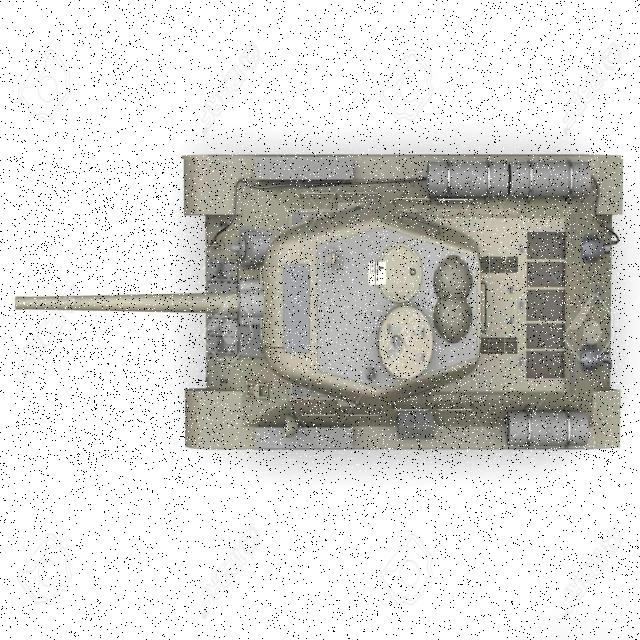MIL_MBT: (14, 159, 625, 465)
